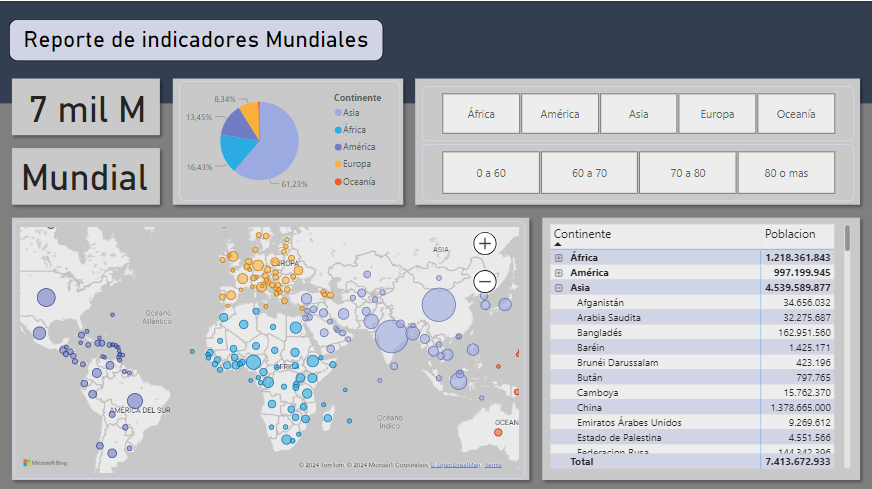

The dashboard page shown, as its layout file describes it:
{"tool":"powerbi","page":{"name":"Reporte de Poblacion","canvas":[1280,720],"ordinal":0},"visuals":[{"type":"pieChart","fields":{"Y":["Sum(Population.Population)"],"Category":["Paises.Continente"]},"box":[263,117.6,324.7,176.3],"z":0},{"type":"map","fields":{"Category":["Paises.Pais"],"Size":["Sum(Population.Population)"],"Series":["Paises.Continente"]},"box":[20.6,323.3,750.9,379.1],"z":1000},{"type":"textbox","box":[13.2,26.4,549.6,61.7],"z":2000},{"type":"pivotTable","fields":{"Rows":["Paises.Continente","Paises.Pais"],"Values":["Sum(Population.Population)"]},"box":[803.8,323.3,451.1,368.8],"z":3000},{"type":"card","fields":{"Values":["Sum(Population.Population)"]},"box":[20.6,107.3,214.5,88.2],"z":4000},{"type":"card","fields":{"Values":["Countries.NombreContinente"]},"box":[13.2,210.1,221.9,83.8],"z":5000},{"type":"slicer","fields":{"Values":["Paises.Continente"]},"box":[620.1,124.9,634.8,80.8],"z":6000},{"type":"slicer","fields":{"Values":["Life expectancy.Grupos de Esperanza"]},"box":[620.1,210.1,634.8,83.8],"z":7000}]}

Visuals, with their boxes in screenshot pixels (x1, y1, x2, y2), scaled from the page's 1280x720 canvas onto the 872x489 screenshot:
pieChart - Sum(Population.Population) x Paises.Continente: [179, 80, 400, 200]
map - Paises.Pais x Sum(Population.Population): [14, 220, 526, 477]
textbox: [9, 18, 383, 60]
pivotTable - Paises.Continente x Paises.Pais: [548, 220, 855, 470]
card - Sum(Population.Population): [14, 73, 160, 133]
card - Countries.NombreContinente: [9, 143, 160, 200]
slicer - Paises.Continente: [422, 85, 855, 140]
slicer - Life expectancy.Grupos de Esperanza: [422, 143, 855, 200]
